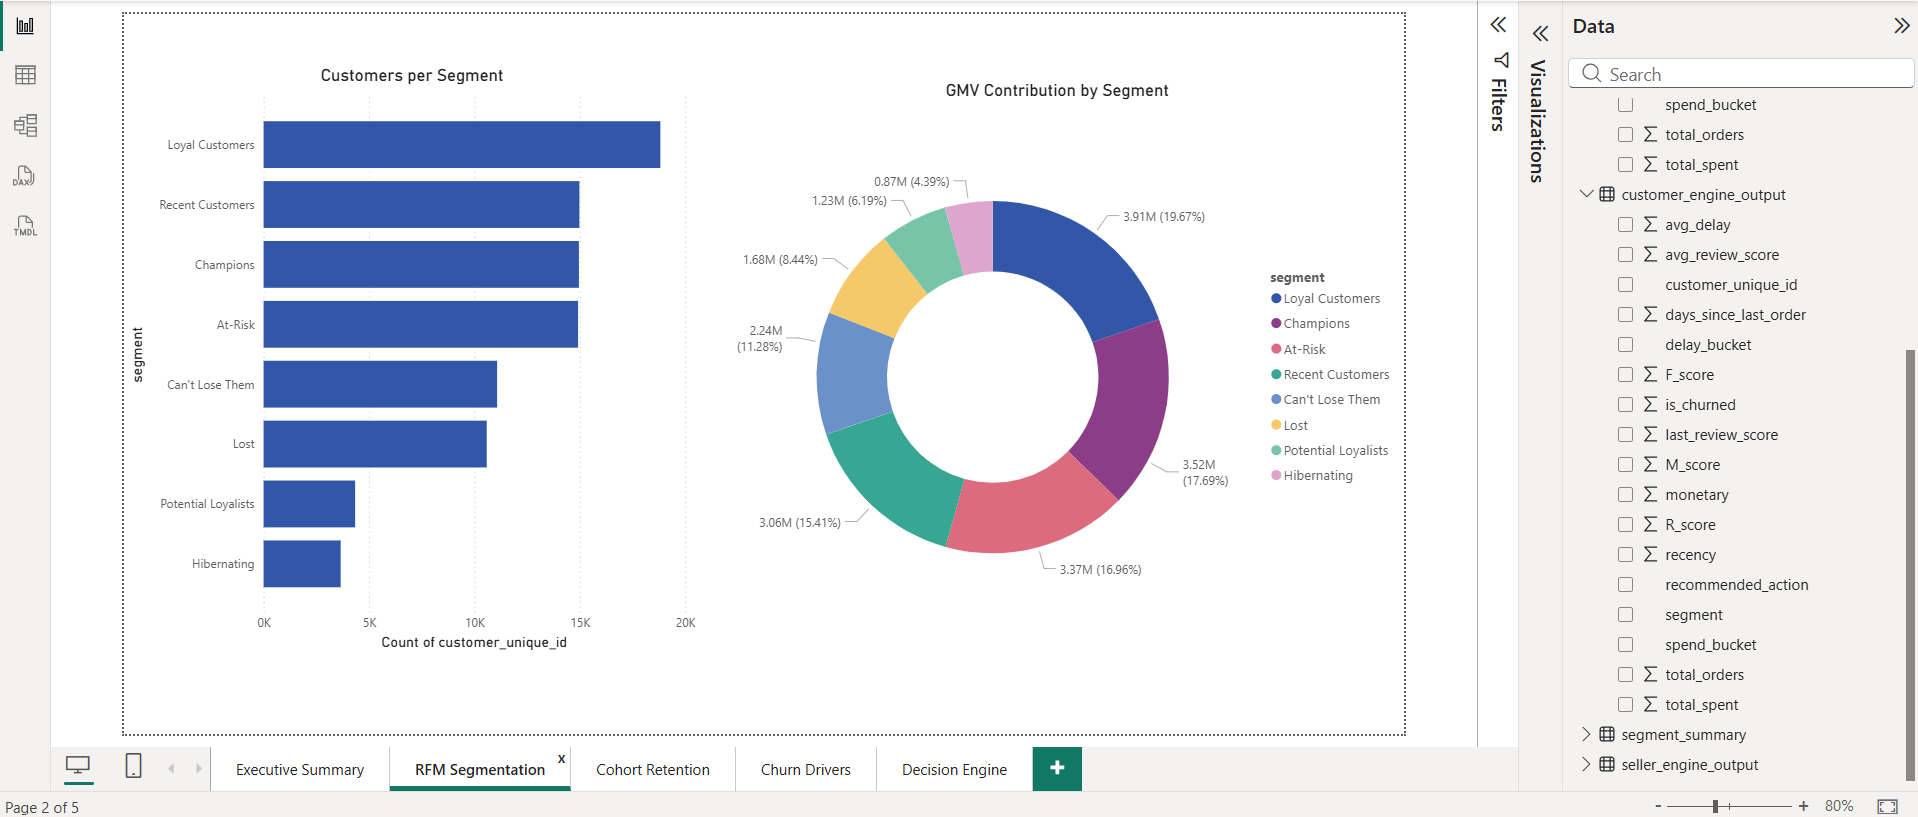

Layout of this report page (visuals, bound fields, positions):
{"tool":"powerbi","page":{"name":"RFM Segmentation","canvas":[1280,720],"ordinal":1},"visuals":[{"type":"clusteredBarChart","title":"Customers per Segment","fields":{"Category":["customer_engine_output.segment"],"Y":["CountNonNull(customer_engine_output.customer_unique_id)"]},"box":[0,50.8,576.3,590.1],"z":0},{"type":"donutChart","title":"GMV Contribution by Segment","fields":{"Category":["customer_engine_output.segment"],"Y":["Sum(customer_engine_output.monetary)"]},"box":[585.9,65.9,694.3,575],"z":1000}]}

Visuals, with their boxes on the page's 1280x720 design canvas (x1, y1, x2, y2). These are canvas units, not pixel positions in the 1918x817 screenshot, which may show the page scaled, cropped or inside an application window:
"Customers per Segment" clusteredBarChart: (0,51,576,641)
"GMV Contribution by Segment" donutChart: (586,66,1280,641)
